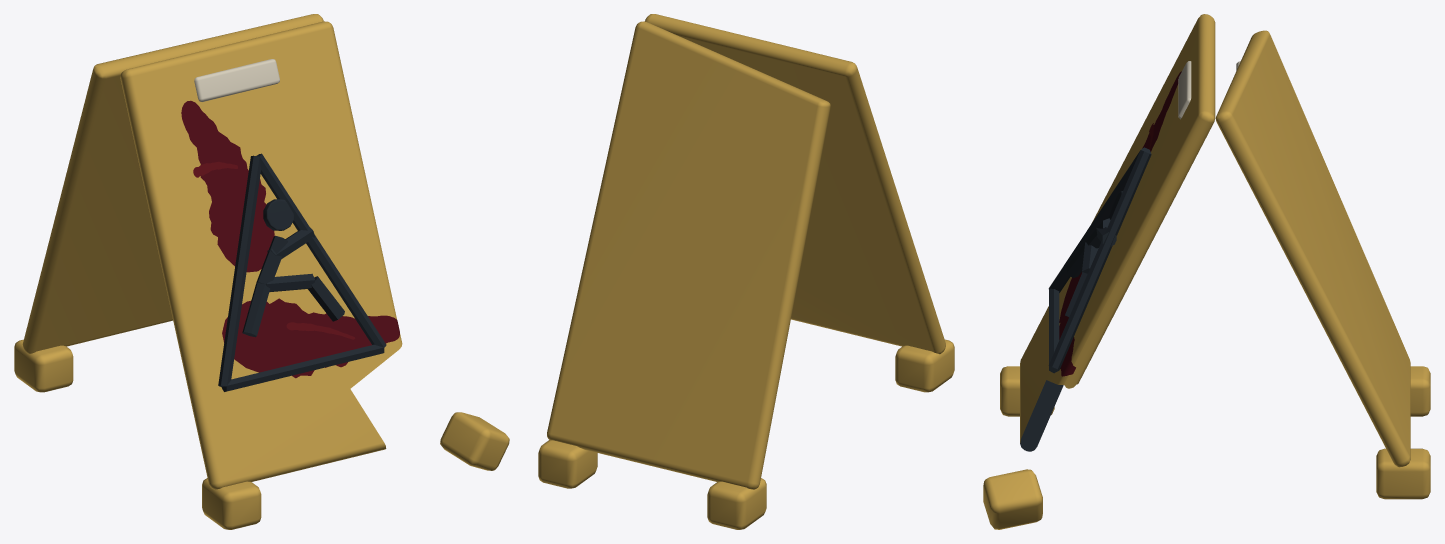
Rendered from wet_floor_sign.glb.
3 renders of one model, left to right at view 1: azimuth 30°, elevation 25°; view 2: azimuth 150°, elevation 25°; view 3: azimuth 270°, elevation 25°, orthographic.
Parts seen in each view (by area): view 1: Outbreak_Utility_Wet_Floor_Sign_Static; view 2: Outbreak_Utility_Wet_Floor_Sign_Static; view 3: Outbreak_Utility_Wet_Floor_Sign_Static.
Part boxes in pixels (<box>): Outbreak_Utility_Wet_Floor_Sign_Static: <box>14,14,509,529</box>; Outbreak_Utility_Wet_Floor_Sign_Static: <box>538,14,954,529</box>; Outbreak_Utility_Wet_Floor_Sign_Static: <box>983,14,1430,529</box>.
Size of the model in its own units: 0.4846 by 0.6365 by 0.6639.
